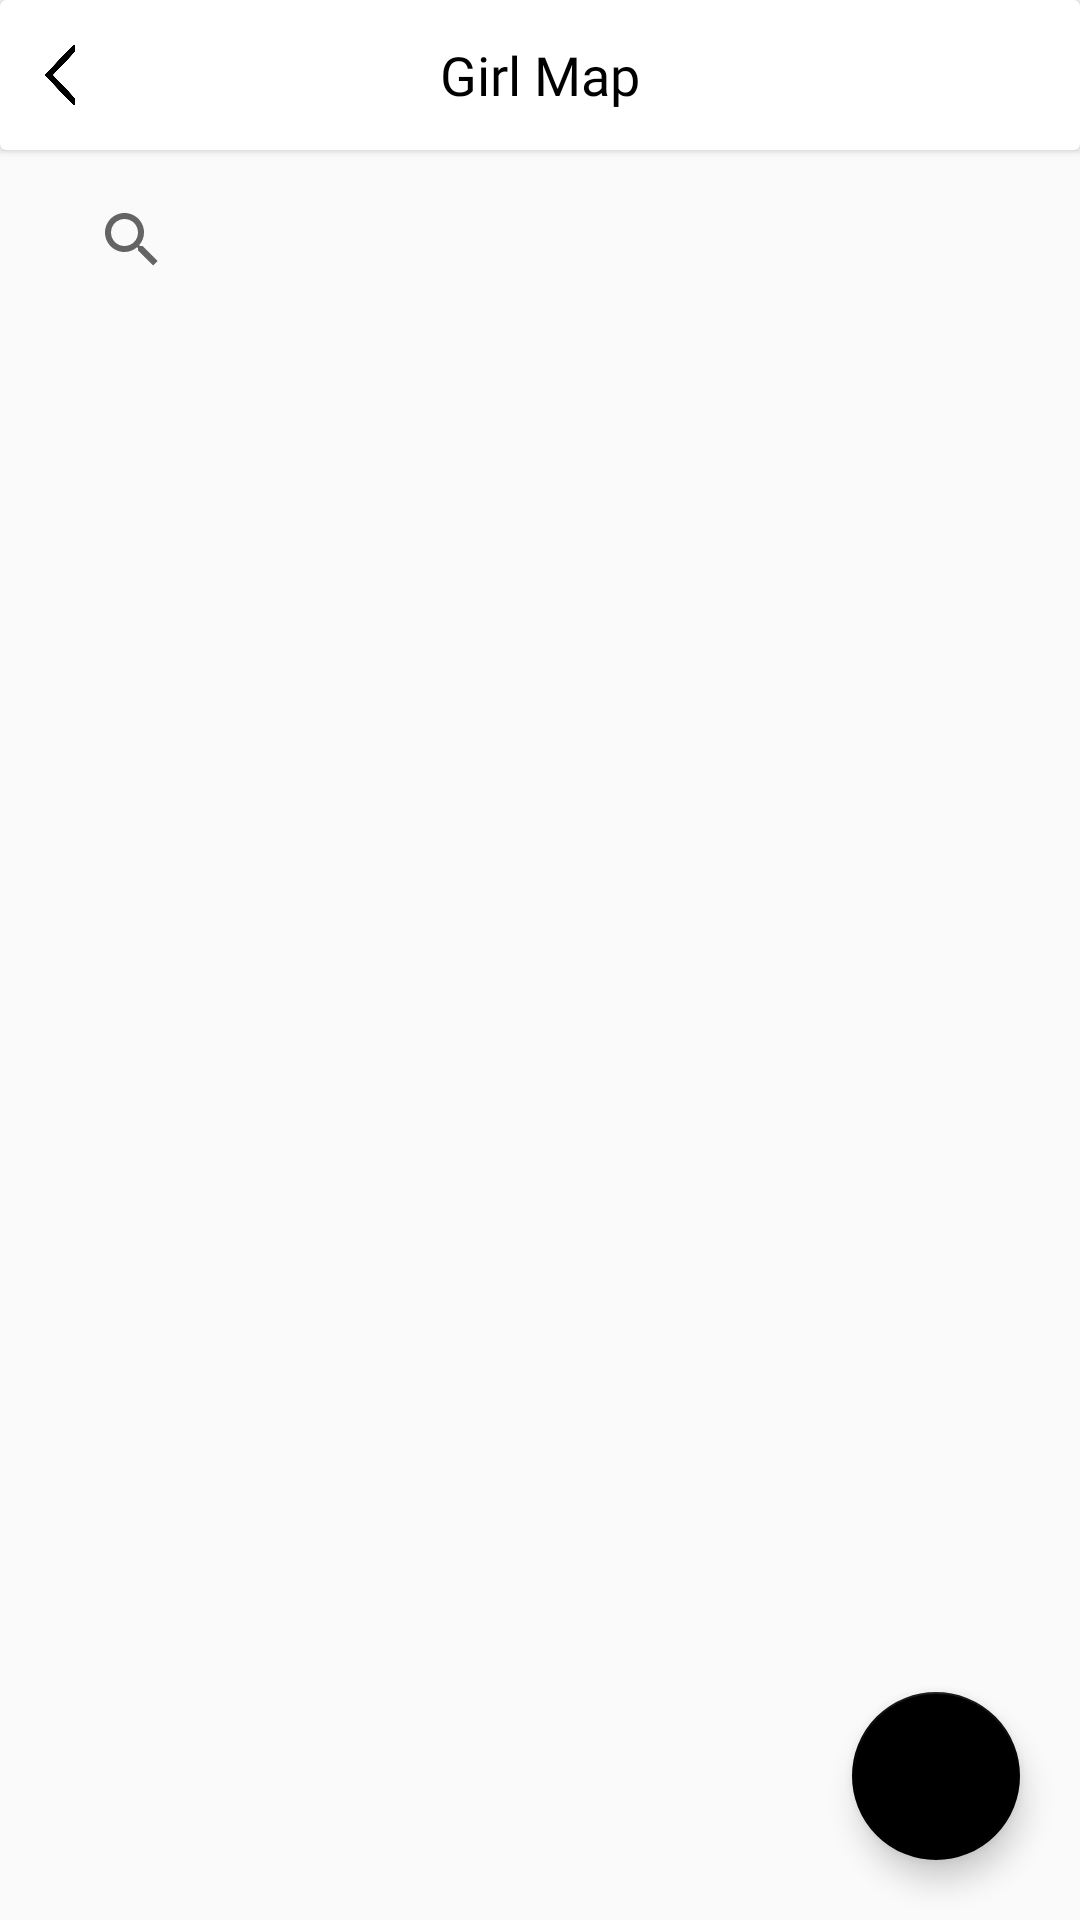

Locate icon controls on the screen. Image size 1080 × 1920, boxes as (x1, y1, x2, y2).
left: (45, 45, 75, 105)
